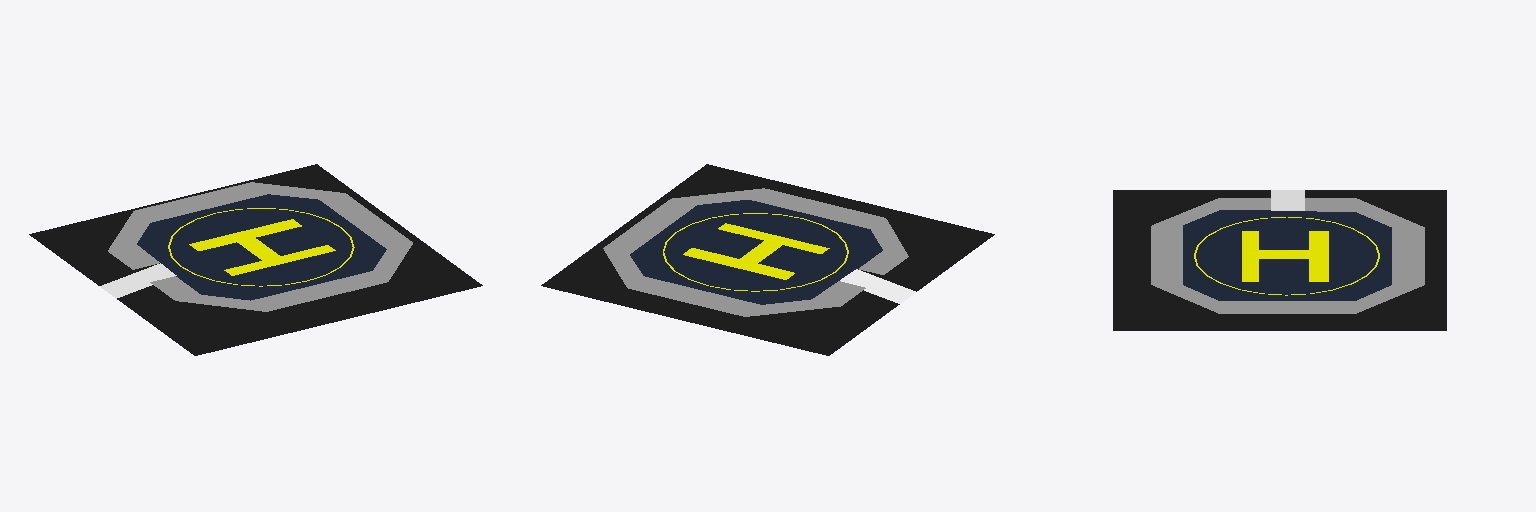
File: helipad.obj
3 renders of one model, left to right at view 1: azimuth 30°, elevation 25°; view 2: azimuth 150°, elevation 25°; view 3: azimuth 270°, elevation 25°, orthographic.
Parts seen in each view (by area): view 1: Mesh1 LibertyCityPoliceDepartment_Helipad1 Model, Mesh2 Model; view 2: Mesh1 LibertyCityPoliceDepartment_Helipad1 Model, Mesh2 Model; view 3: Mesh1 LibertyCityPoliceDepartment_Helipad1 Model, Mesh2 Model.
Boxes of the visible parts, <box> form: Mesh1 LibertyCityPoliceDepartment_Helipad1 Model: <box>108,182,412,311</box>; Mesh2 Model: <box>29,164,482,355</box>; Mesh1 LibertyCityPoliceDepartment_Helipad1 Model: <box>603,188,908,316</box>; Mesh2 Model: <box>541,164,994,355</box>; Mesh1 LibertyCityPoliceDepartment_Helipad1 Model: <box>1151,198,1424,313</box>; Mesh2 Model: <box>1113,190,1446,330</box>.
Size of the model in its own units: 25 by 0.6894 by 25.